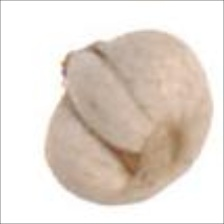L5: (58, 45, 153, 156), (116, 119, 208, 205)
L6: (42, 28, 215, 208)
